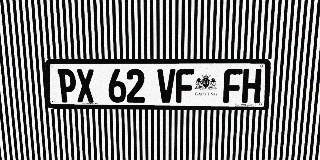2: (126, 69, 145, 103)
6: (108, 69, 126, 103)
F: (223, 69, 243, 103), (176, 69, 194, 103)
H: (242, 69, 262, 103)
P: (57, 69, 77, 102)
V: (157, 69, 175, 103)
X: (76, 69, 95, 102)
